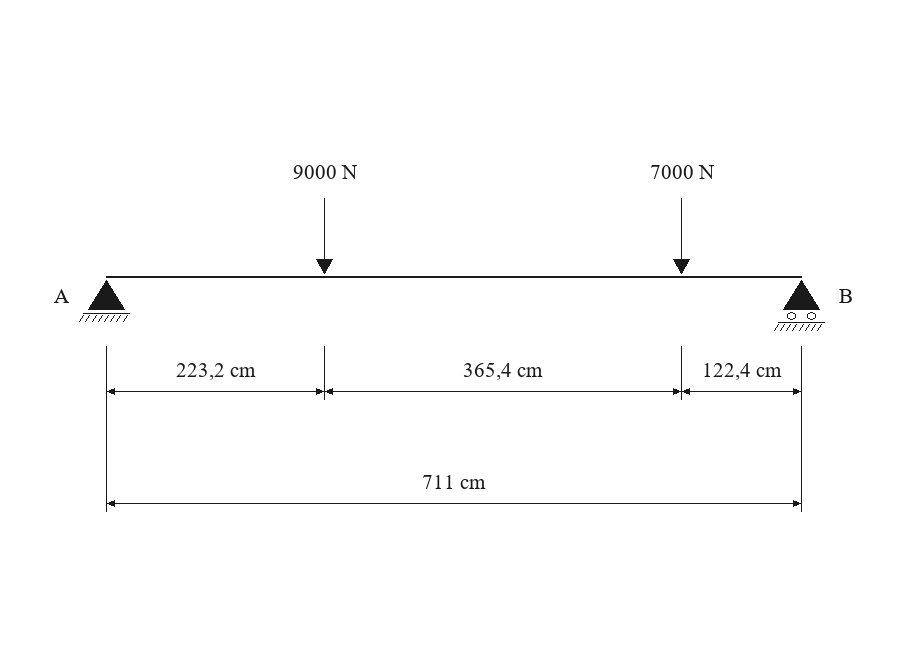pin_support: (79, 280, 130, 322)
point_load: (316, 198, 333, 274), (673, 198, 690, 274)
roller_support: (774, 280, 825, 331)
